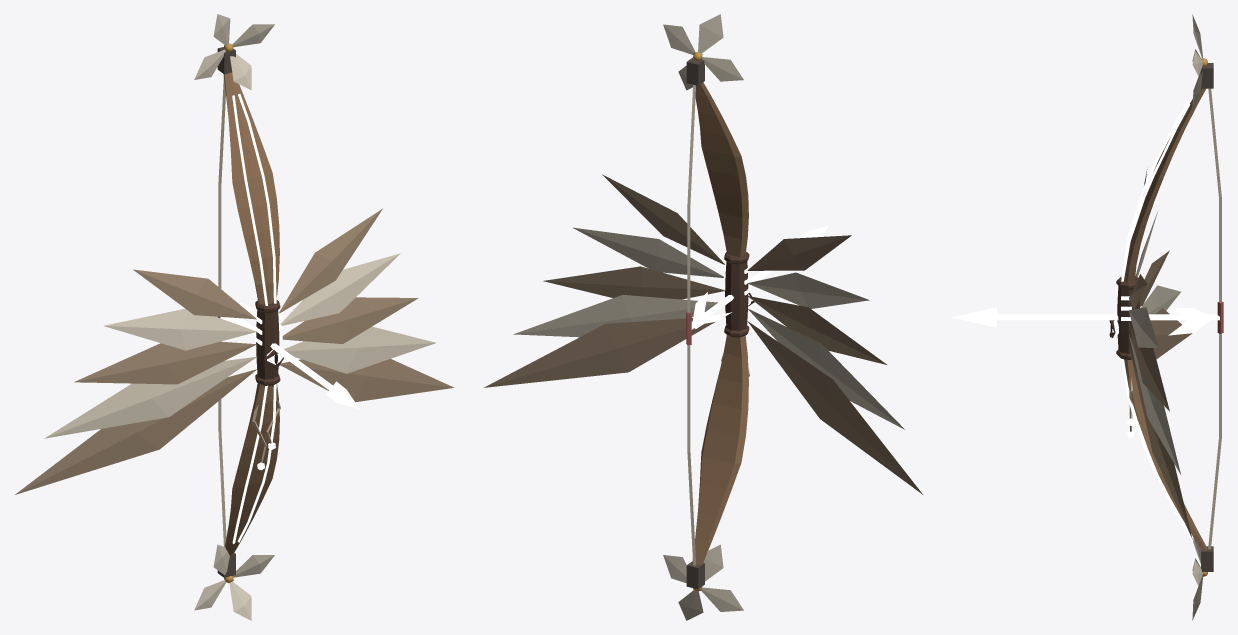
Rendered from bow-wing-shot.glb.
The picture shows the model from 3 angles, left to right: view 1: azimuth 30°, elevation 25°; view 2: azimuth 150°, elevation 25°; view 3: azimuth 270°, elevation 25°; orthographic projection. The views are drawn at different scales.
Visible parts, largest first — view 1: wing_r, bow-wing-shot, wing_l, pulse_vein, string, pulse_arrow; view 2: bow-wing-shot, wing_l, wing_r, string, pulse_arrow; view 3: bow-wing-shot, wing_l, pulse_arrow, wing_r, pulse_vein, string.
Boxes of the visible parts, <box> form: wing_r: <box>15,269,256,494</box>; bow-wing-shot: <box>194,14,280,620</box>; wing_l: <box>279,208,453,402</box>; pulse_vein: <box>232,94,276,544</box>; string: <box>217,77,226,546</box>; pulse_arrow: <box>220,302,359,408</box>; bow-wing-shot: <box>663,14,749,620</box>; wing_l: <box>483,174,725,387</box>; wing_r: <box>747,235,922,494</box>; string: <box>686,84,696,565</box>; pulse_arrow: <box>691,226,828,329</box>; bow-wing-shot: <box>1116,14,1213,620</box>; wing_l: <box>1129,274,1192,538</box>; pulse_arrow: <box>952,307,1219,335</box>; wing_r: <box>1135,169,1192,359</box>; pulse_vein: <box>1121,100,1190,534</box>; string: <box>1208,88,1223,549</box>.
Size of the model in its own units: 1.3 by 1.74 by 0.7216.
